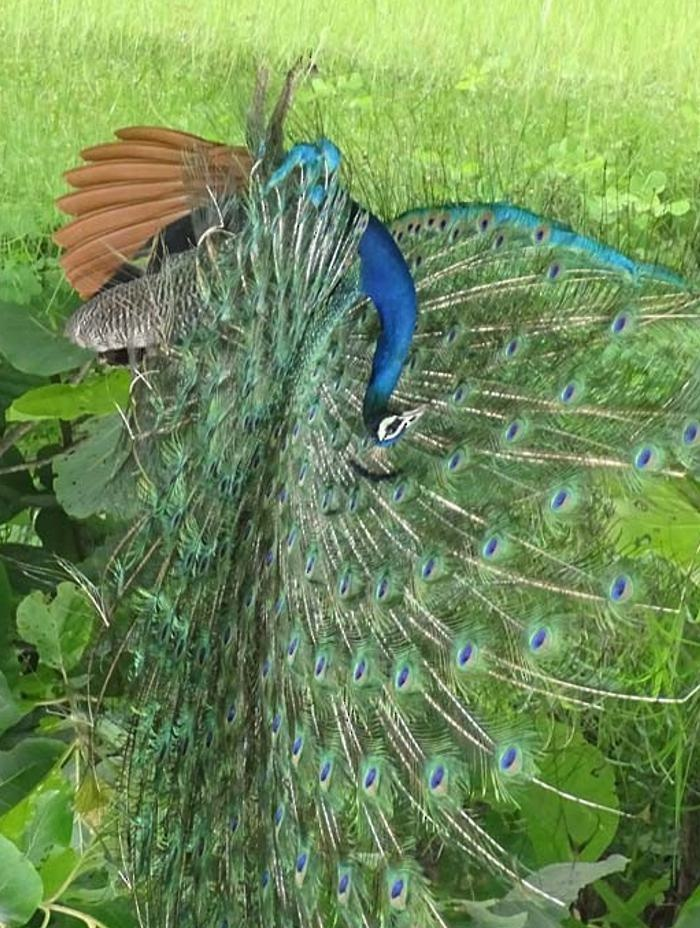peacock: (90, 120, 700, 928)
